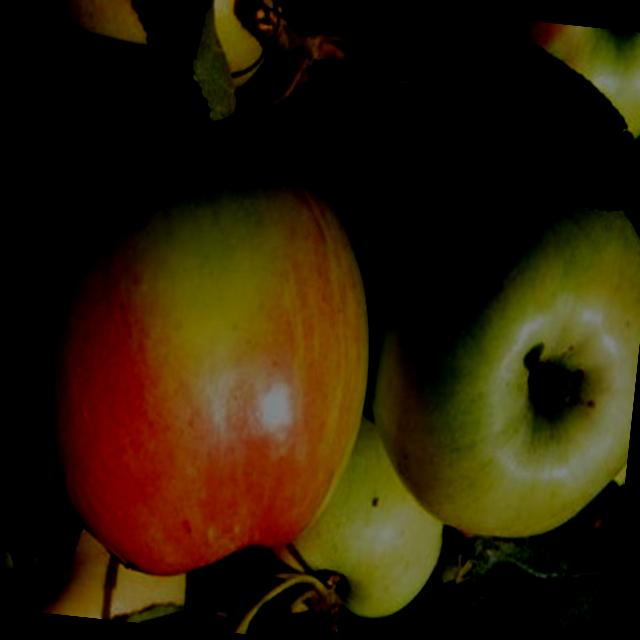Apple: (1, 123, 393, 598), (356, 165, 640, 548), (235, 23, 460, 260), (232, 408, 450, 636), (434, 11, 640, 164)
